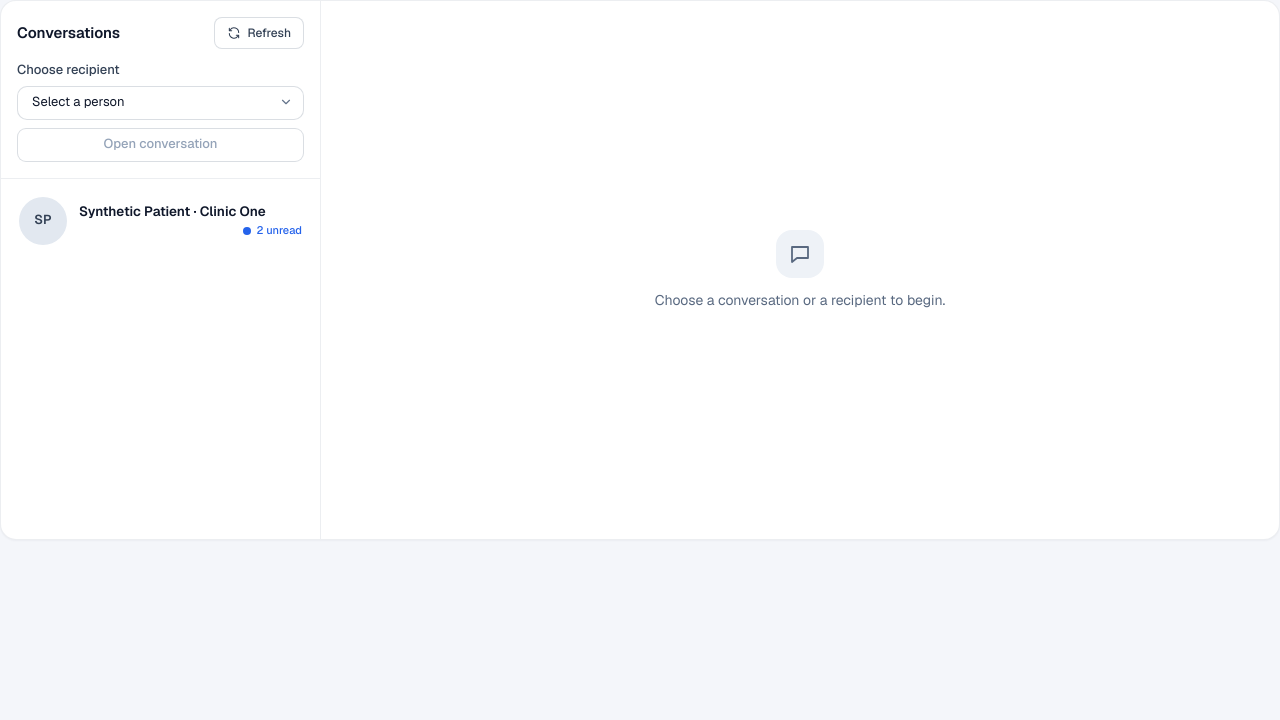
Test: non-blocking message translation › makes no translation request when nothing is pending
The width and height of the screenshot is (1280, 720).
Click the button "SP Synthetic Patient · Clinic One 2 unread" at (160, 221), box [9,187,312,255]
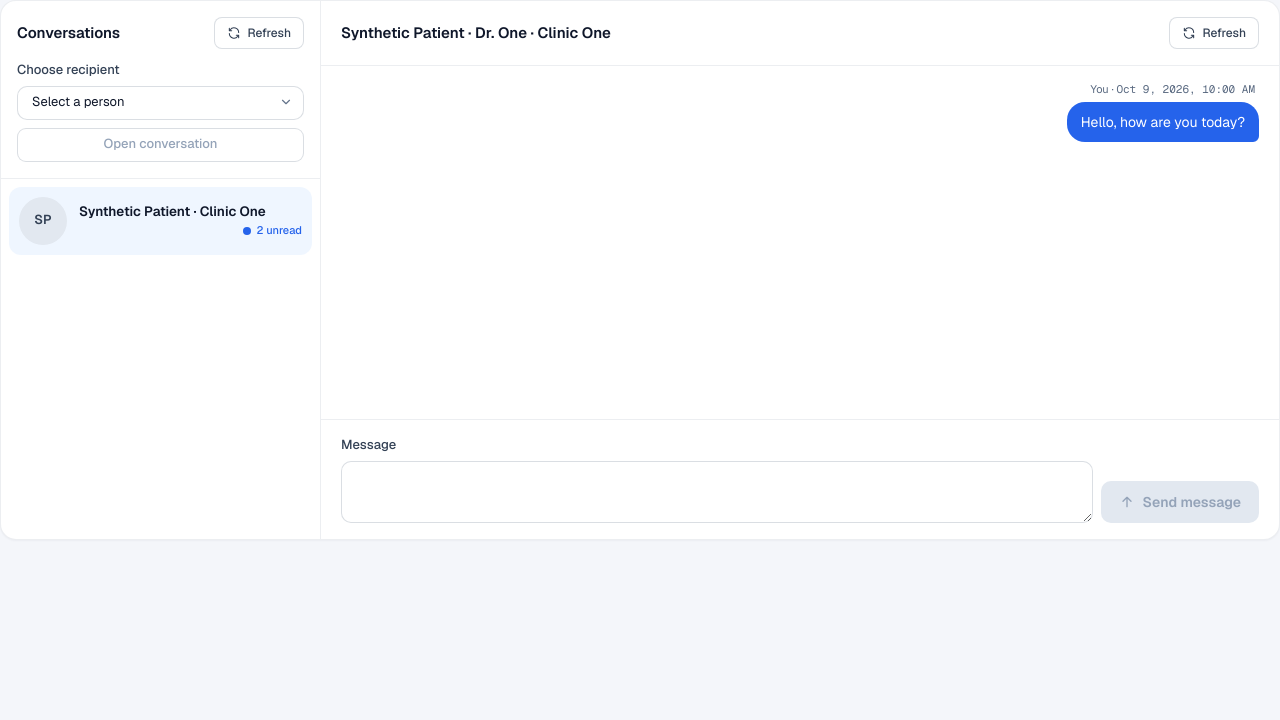
Expected: the text "Hello, how are you today?" is shown, [1067,102,1259,142]
